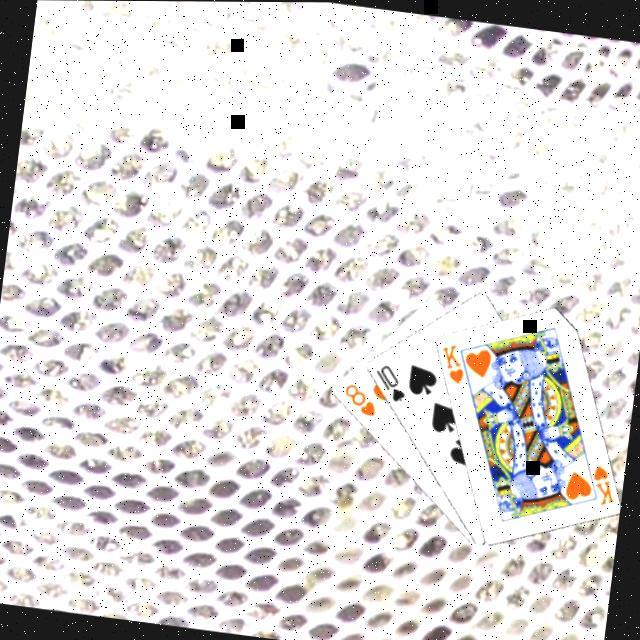10S: (367, 360, 410, 406)
8H: (337, 379, 380, 419)
KH: (584, 460, 619, 509), (434, 340, 469, 387)
